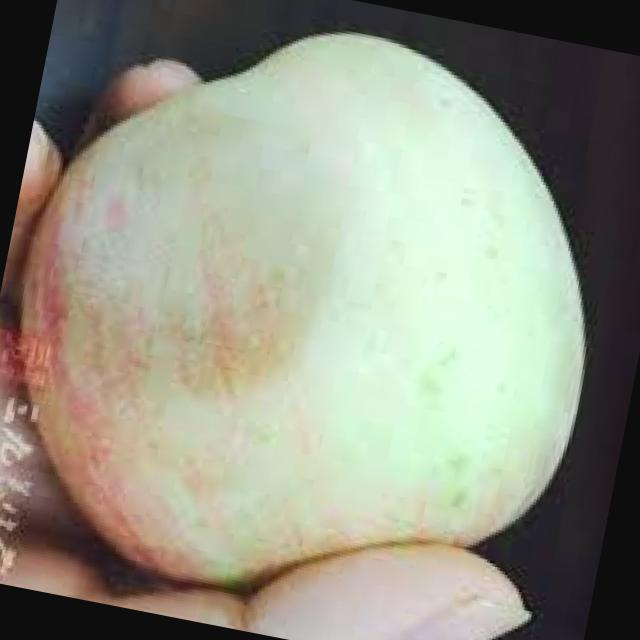organic: (5, 0, 617, 640)
